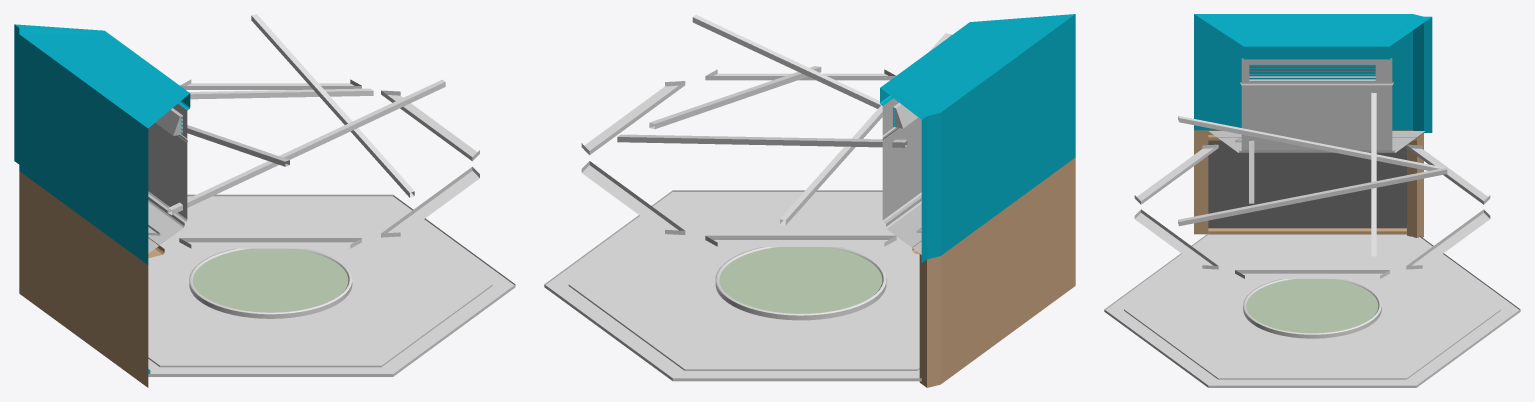
File: Environment.fbx
3 renders of one model, left to right at view 1: azimuth 30°, elevation 25°; view 2: azimuth 150°, elevation 25°; view 3: azimuth 270°, elevation 25°, orthographic. The views are drawn at different scales.
Visible parts, largest first — view 1: Walls, Floor, RotatingPlatform, Lights, Lights2, FloorLights, Platform; view 2: Walls, Floor, RotatingPlatform, Lights, Lights2, FloorLights, Platform; view 3: Walls, Floor, RotatingPlatform, Lights2, Lights, FloorLights, Platform.
Boxes of the visible parts, x1,y1,x2,y2 form: Walls: (14,24,190,387); Floor: (148,194,515,376); RotatingPlatform: (193,248,348,312); Lights: (167,14,445,214); Lights2: (148,79,479,248); FloorLights: (148,199,506,372); Platform: (189,248,352,318); Walls: (880,14,1075,387); Floor: (544,190,921,381); RotatingPlatform: (719,247,882,313); Lights: (617,15,951,225); Lights2: (581,69,921,246); FloorLights: (553,194,919,376); Platform: (715,247,886,320); Walls: (1194,14,1432,237); Floor: (1104,233,1520,387); RotatingPlatform: (1246,279,1378,333); Lights2: (1134,137,1490,278); Lights: (1178,92,1447,256); FloorLights: (1111,236,1513,383); Platform: (1243,279,1381,338).
Bounding box in the file's own units: 1276 × 842 × 1440.
